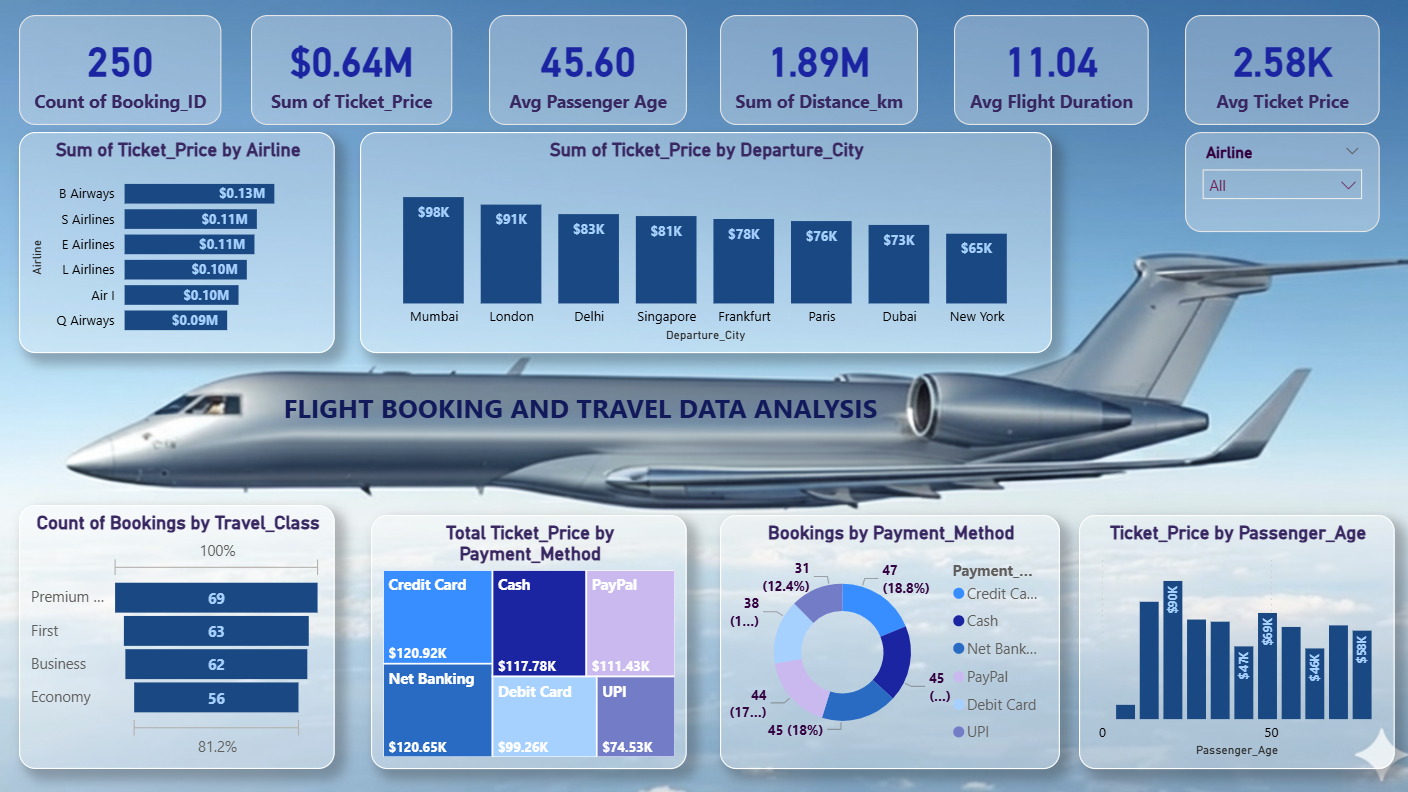

The dashboard page shown, as its layout file describes it:
{"tool":"powerbi","page":{"name":"Page 1","canvas":[1280,720],"ordinal":0},"visuals":[{"type":"textbox","box":[187.8,348.7,679.3,55.6],"z":0},{"type":"card","fields":{"Values":["Count(flight_bookings_sample.Booking_ID)"]},"box":[17.2,13.4,184,99.6],"z":2000},{"type":"card","fields":{"Values":["Sum(flight_bookings_sample.Ticket_Price)"]},"box":[228,13.4,183,99.6],"z":3000},{"type":"card","fields":{"Values":["Avg(flight_bookings_sample.Passenger_Age)"]},"box":[444.6,13.4,180.1,99.6],"z":4000},{"type":"card","fields":{"Values":["Sum(flight_bookings_sample.Distance_km)"]},"box":[654.4,13.4,180.1,99.6],"z":5000},{"type":"card","fields":{"Values":["Avg(flight_bookings_sample.Flight_Duration_hr)"]},"box":[867.1,13.4,177.2,99.6],"z":6000},{"type":"card","fields":{"Values":["flight_bookings_sample.Avg Ticket Price"]},"box":[1076.9,13.4,177.2,99.6],"z":7000},{"type":"clusteredBarChart","fields":{"Category":["flight_bookings_sample.Airline"],"Y":["Sum(flight_bookings_sample.Ticket_Price)"]},"box":[17.2,119.8,287.4,201.2],"z":8000},{"type":"columnChart","fields":{"Category":["flight_bookings_sample.Departure_City"],"Y":["Sum(flight_bookings_sample.Ticket_Price)"]},"box":[327.7,119.8,628.5,201.2],"z":9000},{"type":"funnel","fields":{"Category":["flight_bookings_sample.Travel_Class"],"Y":["CountNonNull(flight_bookings_sample.Booking_ID)"]},"box":[17.2,458.9,287.4,240.5],"z":10000},{"type":"treemap","fields":{"Group":["flight_bookings_sample.Payment_Method"],"Values":["Sum(flight_bookings_sample.Ticket_Price)"]},"box":[337.2,468.5,287.4,230.9],"z":11000},{"type":"donutChart","fields":{"Category":["flight_bookings_sample.Payment_Method"],"Y":["CountNonNull(flight_bookings_sample.Booking_ID)"]},"box":[654.4,468.5,309.5,230.9],"z":11001},{"type":"columnChart","fields":{"Y":["Sum(flight_bookings_sample.Ticket_Price)"],"Category":["flight_bookings_sample.Passenger_Age (bins)"]},"box":[981.1,468.5,287.4,230.9],"z":11002},{"type":"slicer","fields":{"Values":["flight_bookings_sample.Airline"]},"box":[1076.9,119.8,177.2,91],"z":11003}]}

Visuals, with their boxes in screenshot pixels (x1, y1, x2, y2), scaled from the page's 1280x720 canvas onto the 1408x792 screenshot:
textbox: <box>207,384,954,445</box>
card - Count(flight_bookings_sample.Booking_ID): <box>19,15,221,124</box>
card - Sum(flight_bookings_sample.Ticket_Price): <box>251,15,452,124</box>
card - Avg(flight_bookings_sample.Passenger_Age): <box>489,15,687,124</box>
card - Sum(flight_bookings_sample.Distance_km): <box>720,15,918,124</box>
card - Avg(flight_bookings_sample.Flight_Duration_hr): <box>954,15,1149,124</box>
card - flight_bookings_sample.Avg Ticket Price: <box>1185,15,1380,124</box>
clusteredBarChart - flight_bookings_sample.Airline x Sum(flight_bookings_sample.Ticket_Price): <box>19,132,335,353</box>
columnChart - flight_bookings_sample.Departure_City x Sum(flight_bookings_sample.Ticket_Price): <box>360,132,1052,353</box>
funnel - flight_bookings_sample.Travel_Class x CountNonNull(flight_bookings_sample.Booking_ID): <box>19,505,335,769</box>
treemap - flight_bookings_sample.Payment_Method x Sum(flight_bookings_sample.Ticket_Price): <box>371,515,687,769</box>
donutChart - flight_bookings_sample.Payment_Method x CountNonNull(flight_bookings_sample.Booking_ID): <box>720,515,1060,769</box>
columnChart - Sum(flight_bookings_sample.Ticket_Price) x flight_bookings_sample.Passenger_Age (bins): <box>1079,515,1395,769</box>
slicer - flight_bookings_sample.Airline: <box>1185,132,1380,232</box>
